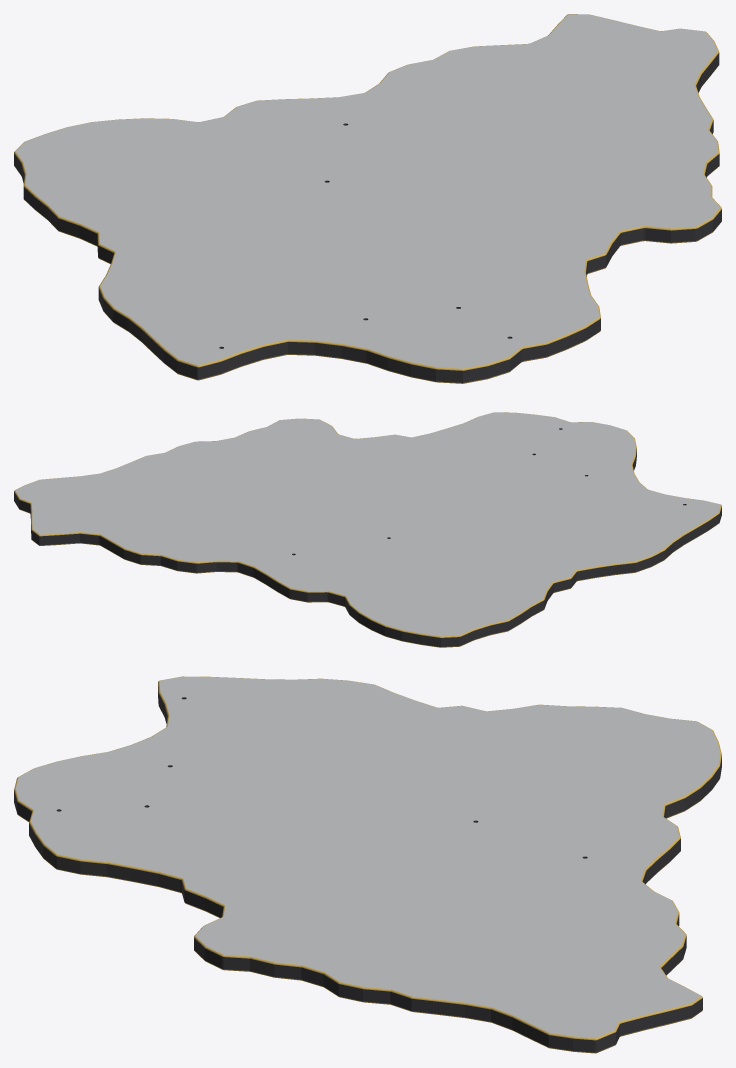
Rendered from nigeria_manufacturing_centerpiece.glb.
The picture shows the model from 3 angles, top to bottom: view 1: azimuth 30°, elevation 25°; view 2: azimuth 150°, elevation 25°; view 3: azimuth 270°, elevation 25°; orthographic projection. The views are drawn at different scales.
Parts seen in each view (by area): view 1: Nigeria_Slab; view 2: Nigeria_Slab; view 3: Nigeria_Slab.
Part boxes in pixels (x1=…): Nigeria_Slab: x1=14, y1=14, x2=721, y2=383; Nigeria_Slab: x1=14, y1=412, x2=721, y2=647; Nigeria_Slab: x1=14, y1=676, x2=721, y2=1053.
Size of the model in its own units: 1.53 by 0.03 by 1.26.
